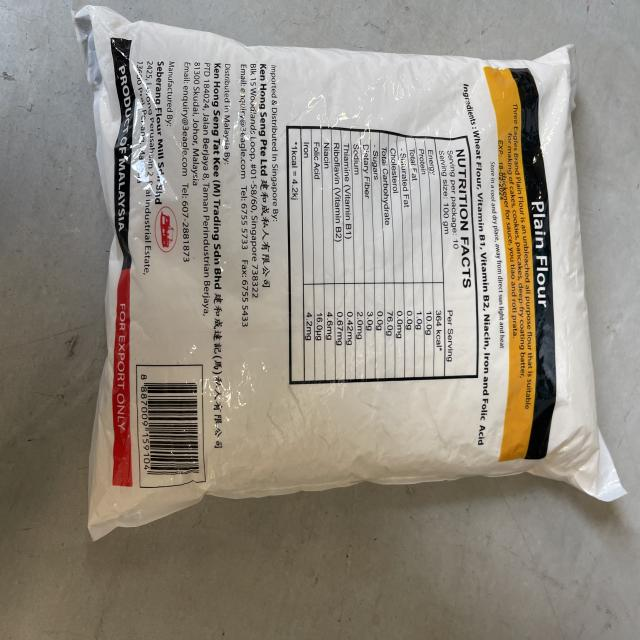object_name: (93, 25, 599, 505)
